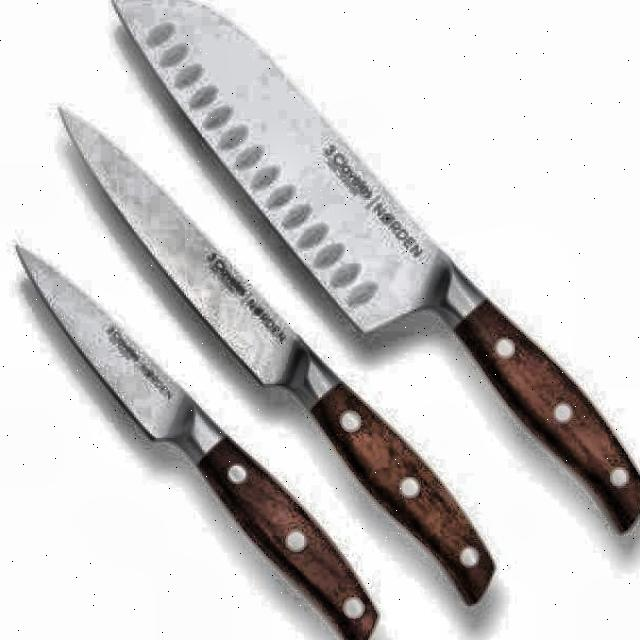knife: (106, 0, 640, 536), (55, 106, 499, 608), (11, 240, 382, 640)
